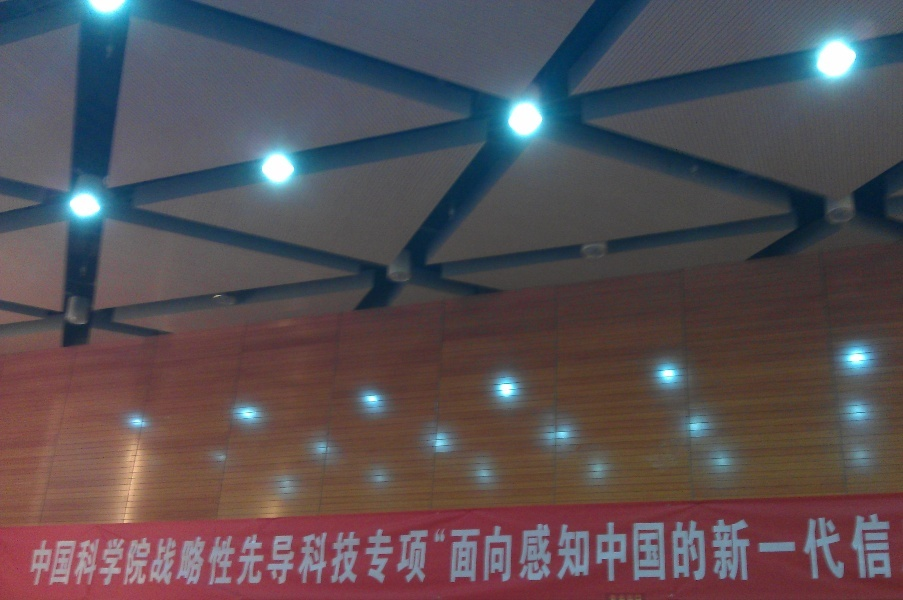text: (33, 511, 48, 587), (49, 511, 64, 587), (65, 511, 80, 587), (81, 511, 96, 587), (97, 511, 112, 587), (113, 511, 128, 587), (129, 511, 144, 587), (145, 511, 160, 587), (161, 511, 176, 587), (177, 511, 192, 587), (193, 511, 208, 587), (209, 511, 224, 587), (225, 511, 240, 587), (241, 511, 256, 587), (257, 511, 272, 587), (273, 511, 288, 587), (289, 511, 304, 587), (305, 511, 320, 587), (321, 511, 336, 587), (337, 511, 352, 587), (353, 511, 368, 587), (369, 511, 384, 587), (385, 511, 400, 587), (401, 511, 416, 587), (417, 511, 432, 587), (433, 511, 448, 587), (449, 511, 464, 587), (465, 511, 480, 587), (481, 511, 496, 587), (497, 511, 512, 587), (513, 511, 528, 587), (529, 511, 544, 587), (545, 511, 560, 587), (561, 511, 576, 587), (577, 511, 592, 587), (593, 511, 608, 587), (609, 511, 624, 587), (625, 511, 640, 587), (641, 511, 656, 587), (657, 511, 672, 587), (673, 511, 688, 587), (689, 511, 704, 587), (705, 511, 720, 587), (721, 511, 736, 587), (737, 511, 752, 587), (753, 511, 768, 587), (769, 511, 784, 587), (785, 511, 800, 587), (801, 511, 816, 587), (817, 511, 832, 587), (833, 511, 848, 587), (849, 511, 864, 587), (865, 511, 880, 587), (881, 511, 895, 587), (29, 511, 32, 587)
